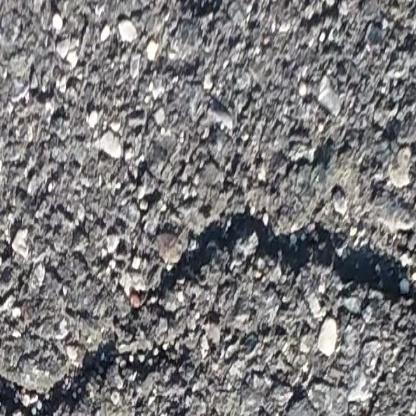Cracks: (142, 203, 416, 319), (0, 339, 170, 416)
